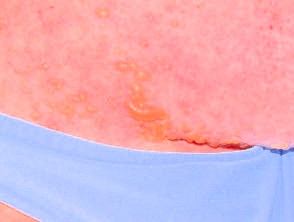SJS-TEN: (0, 0, 294, 163)
